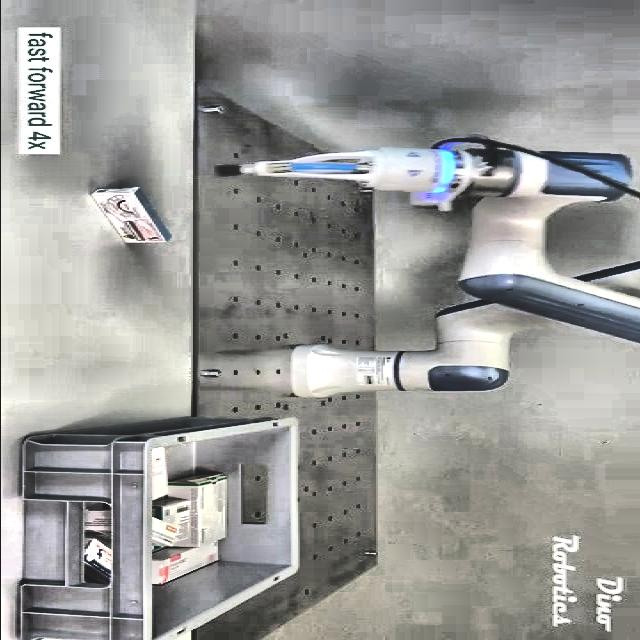robot: (220, 135, 640, 398)
